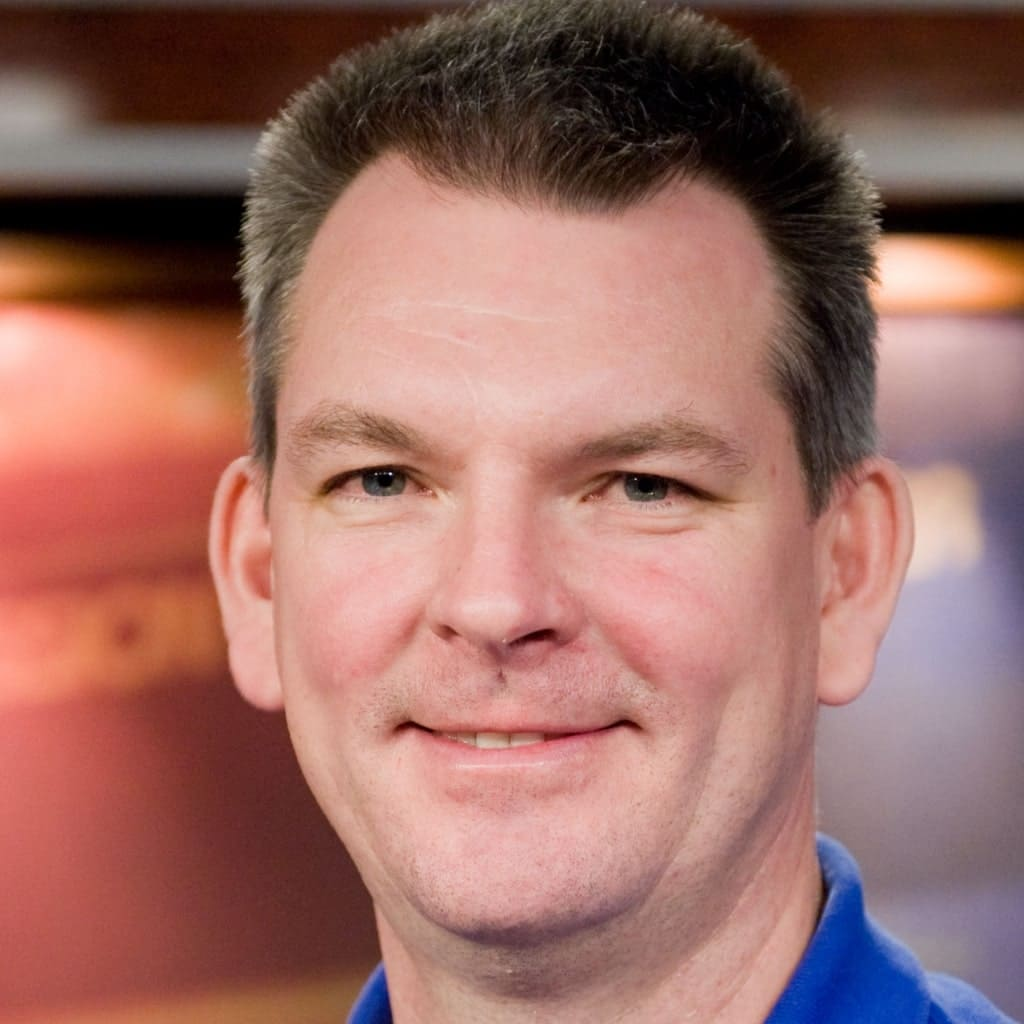without_mask: (275, 256, 798, 897)
